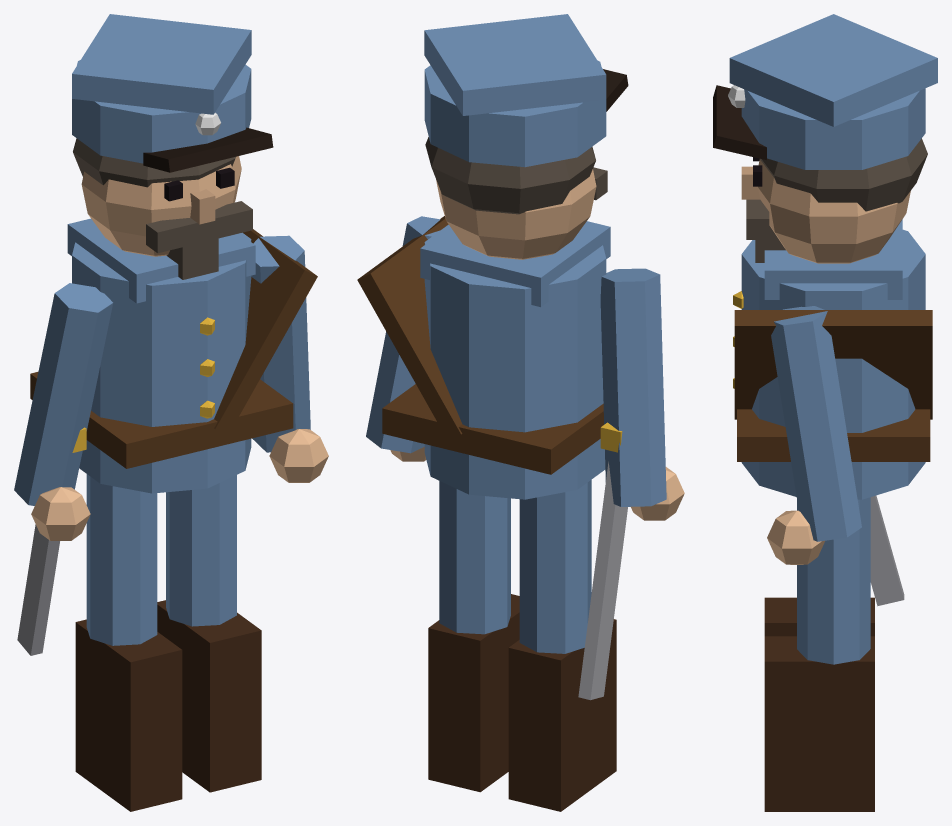
Rendered from postac_haller.glb.
3 views of the same model, side by side, from view 1: azimuth 30°, elevation 25°; view 2: azimuth 150°, elevation 25°; view 3: azimuth 270°, elevation 25° (orthographic).
Parts seen in each view (by area): view 1: cialo, noga_l, noga_p, reka_l, reka_p; view 2: cialo, noga_l, noga_p, reka_l, reka_p; view 3: cialo, noga_p, reka_p, noga_l.
Boxes of the visible parts, x1,y1,x2,y2 form: cialo: (17,14,317,655); noga_l: (75,474,182,811); noga_p: (157,475,261,792); reka_l: (14,283,112,540); reka_p: (251,235,328,482); cialo: (357,14,628,700); noga_l: (508,480,616,811); noga_p: (428,481,519,792); reka_l: (600,268,684,520); reka_p: (366,216,440,461); cialo: (713,14,937,606); noga_p: (764,497,874,811); reka_p: (767,306,861,564); noga_l: (764,597,874,636).
Size of the model in its own units: 0.7126 by 1.73 by 0.4881.
